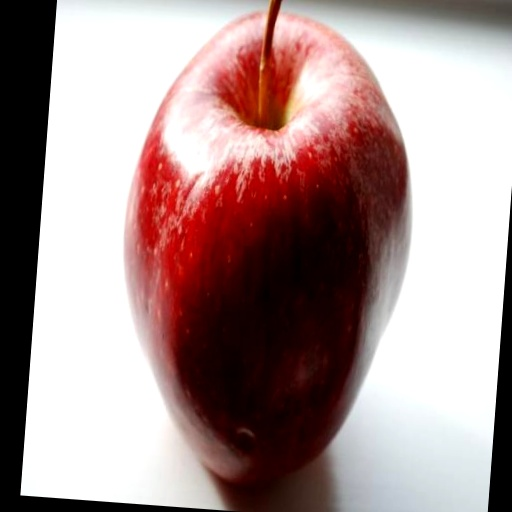fruit: (125, 14, 410, 483)
